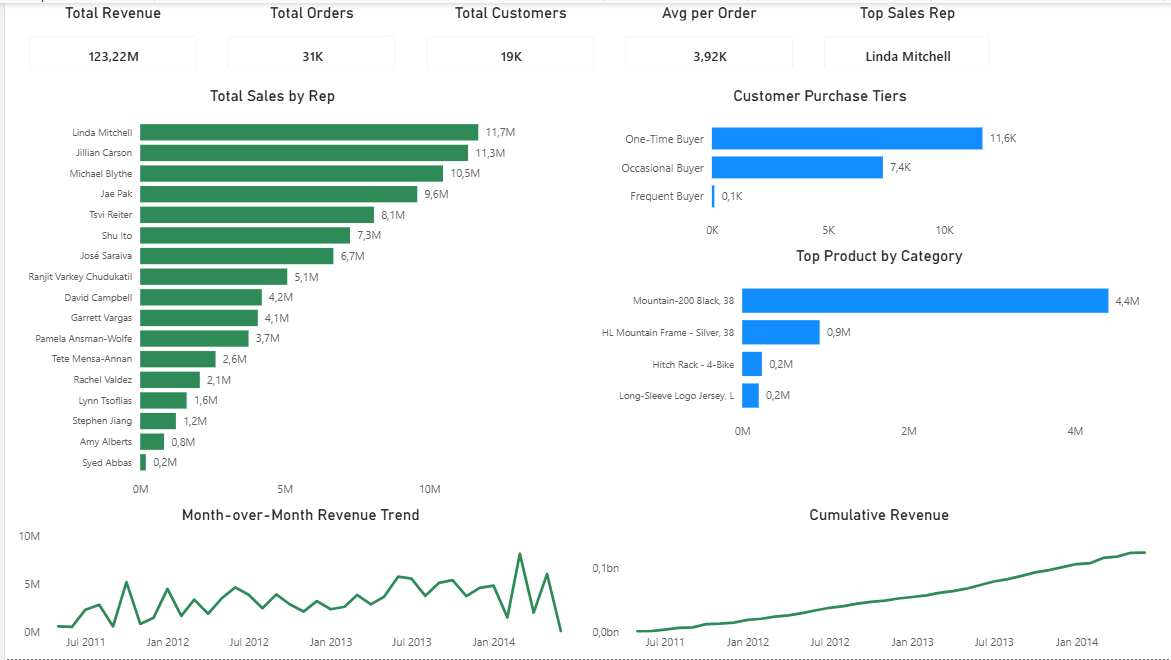

What the dashboard file says about the page in this screenshot:
{"tool":"powerbi","page":{"name":"Overview","canvas":[1280,720],"ordinal":0},"visuals":[{"type":"cardVisual","title":"Total Revenue","fields":{"Data":["Sum(Tbl_ExecutiveSummary.Tot_Revenue)"]},"box":[9.6,0,218.2,91.9],"z":0},{"type":"cardVisual","title":"Total Orders","fields":{"Data":["Sum(Tbl_ExecutiveSummary.Tot_Orders)"]},"box":[227.8,0,218.2,91.9],"z":1},{"type":"cardVisual","title":"Total Customers","fields":{"Data":["Sum(Tbl_ExecutiveSummary.Tot_Customers)"]},"box":[446,0,218.2,91.9],"z":2},{"type":"cardVisual","title":"Avg per Order","fields":{"Data":["Sum(Tbl_ExecutiveSummary.AVG_per_Order)"]},"box":[664.2,0,218.2,91.9],"z":3},{"type":"cardVisual","title":"Top Sales Rep","fields":{"Data":["Min(Tbl_ExecutiveSummary.Top_Sales_Rep)"]},"box":[882.3,0,216.8,91.9],"z":4},{"type":"clusteredBarChart","title":"Total Sales by Rep","fields":{"Category":["Tbl_SalesRepRanking.Name"],"Y":["Sum(Tbl_SalesRepRanking.Total_Sales)"]},"box":[9.6,91.9,568.1,459.7],"z":5},{"type":"lineChart","title":"Month-over-Month Revenue Trend","fields":{"Y":["Sum(Tbl_MoMTrend.Total_Sales)"],"Category":["Tbl_MoMTrend.Order_Month.Variation.Date Hierarchy.Year"]},"box":[9.6,551.6,629.8,168.8],"z":6},{"type":"lineChart","title":"Cumulative Revenue","fields":{"Category":["Tbl_CumulativeSales.Order_Month.Variation.Date Hierarchy.Year","Tbl_CumulativeSales.Order_Month.Variation.Date Hierarchy.Quarter","Tbl_CumulativeSales.Order_Month.Variation.Date Hierarchy.Month","Tbl_CumulativeSales.Order_Month.Variation.Date Hierarchy.Day"],"Y":["Sum(Tbl_CumulativeSales.Cumulative_Sales)"]},"box":[639.5,551.6,640.8,168.8],"z":7},{"type":"clusteredBarChart","title":"Top Product by Category","fields":{"Y":["Sum(Tbl_TopProductsByCategory.Total_Sales)"],"Category":["Tbl_TopProductsByCategory.Product_Name"]},"box":[639.5,267.6,640.8,220.9],"z":8},{"type":"clusteredBarChart","title":"Customer Purchase Tiers","fields":{"Category":["Tbl_CustomerTiers.Customer_Buyer_Tiers"],"Y":["Sum(Tbl_CustomerTiers.Total_Customers)"]},"box":[664.2,91.9,461.1,175.6],"z":9}]}

Visuals, with their boxes in screenshot pixels (x1, y1, x2, y2), scaled from the page's 1280x720 canvas onto the 1171x660 screenshot:
"Total Revenue" cardVisual: (9,0,208,84)
"Total Orders" cardVisual: (208,0,408,84)
"Total Customers" cardVisual: (408,0,608,84)
"Avg per Order" cardVisual: (608,0,807,84)
"Top Sales Rep" cardVisual: (807,0,1006,84)
"Total Sales by Rep" clusteredBarChart: (9,84,529,506)
"Month-over-Month Revenue Trend" lineChart: (9,506,585,659)
"Cumulative Revenue" lineChart: (585,506,1170,659)
"Top Product by Category" clusteredBarChart: (585,245,1170,448)
"Customer Purchase Tiers" clusteredBarChart: (608,84,1029,245)
